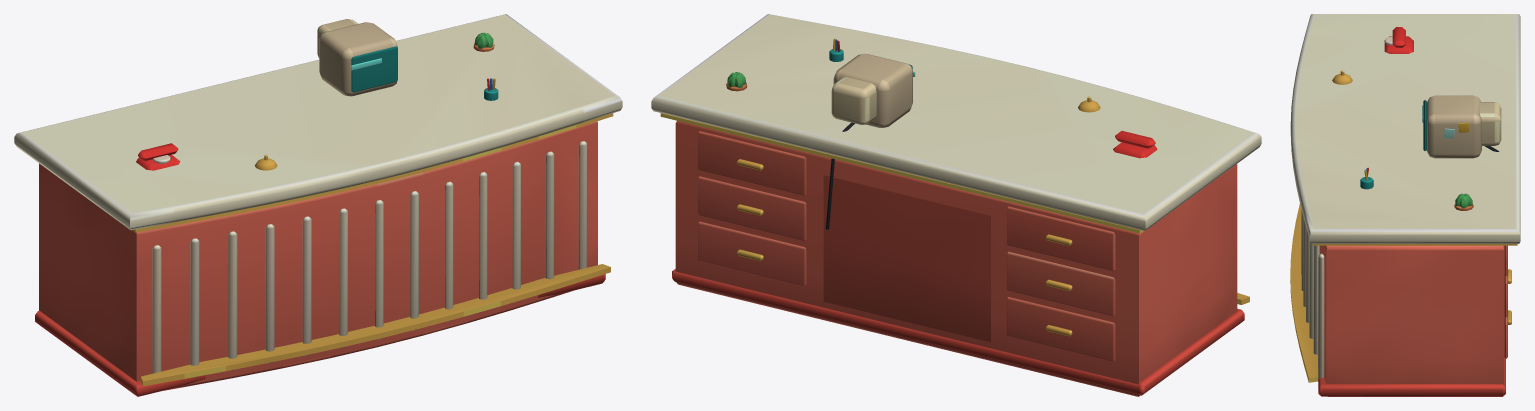
Rendered from SM_Lobby_ReceptionDesk.fbx.
3 renders of one model, left to right at view 1: azimuth 30°, elevation 25°; view 2: azimuth 150°, elevation 25°; view 3: azimuth 270°, elevation 25°, orthographic. The views are drawn at different scales.
Visible parts, largest first — view 1: SM_Lobby_ReceptionDesk; view 2: SM_Lobby_ReceptionDesk; view 3: SM_Lobby_ReceptionDesk.
Part boxes in pixels (x1,y1,x2,y2): SM_Lobby_ReceptionDesk: [14, 14, 622, 396]; SM_Lobby_ReceptionDesk: [651, 14, 1261, 396]; SM_Lobby_ReceptionDesk: [1290, 14, 1520, 396].
Size of the model in its own units: 320 by 149 by 142.
